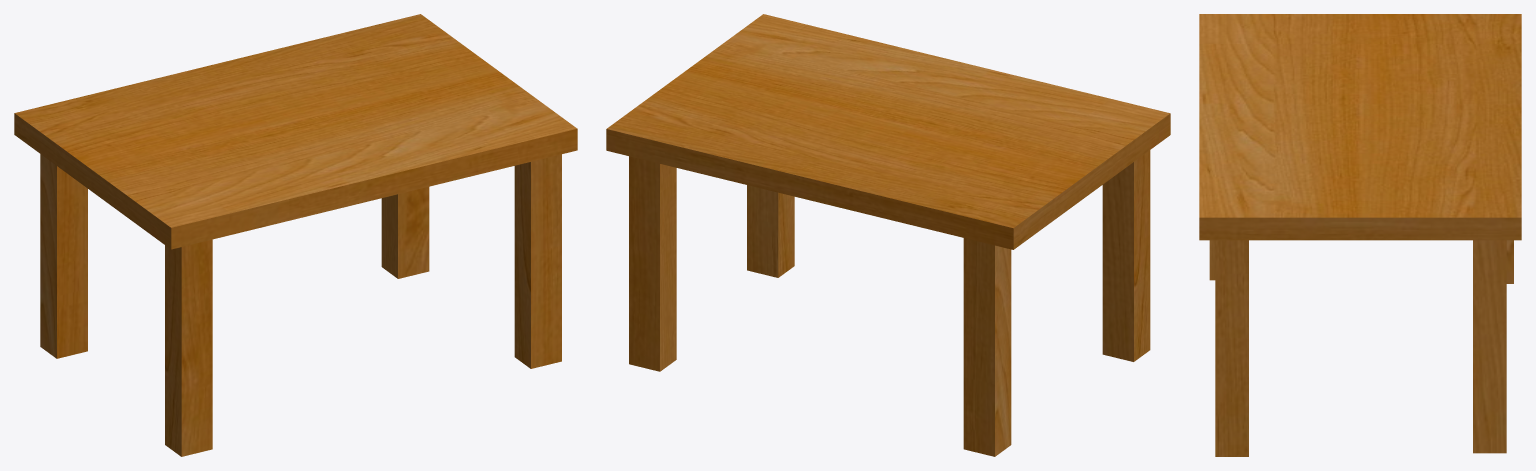
Rendered from table.glb.
3 views of the same model, side by side, from view 1: azimuth 30°, elevation 25°; view 2: azimuth 150°, elevation 25°; view 3: azimuth 270°, elevation 25° (orthographic). The views are drawn at different scales.
Parts seen in each view (by area): view 1: Tisch; view 2: Tisch; view 3: Tisch.
Part boxes in pixels (box(x1,y1,x2,y2)): Tisch: box(14, 14, 577, 456); Tisch: box(606, 14, 1170, 456); Tisch: box(1199, 14, 1521, 456).
Size of the model in its own units: 3.13 by 1.74 by 2.09.
1 material, 1 textured.
